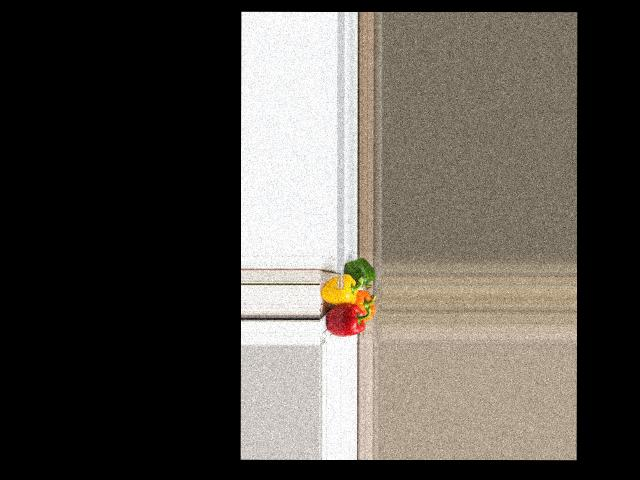bell_pepper: (353, 288, 376, 321)
